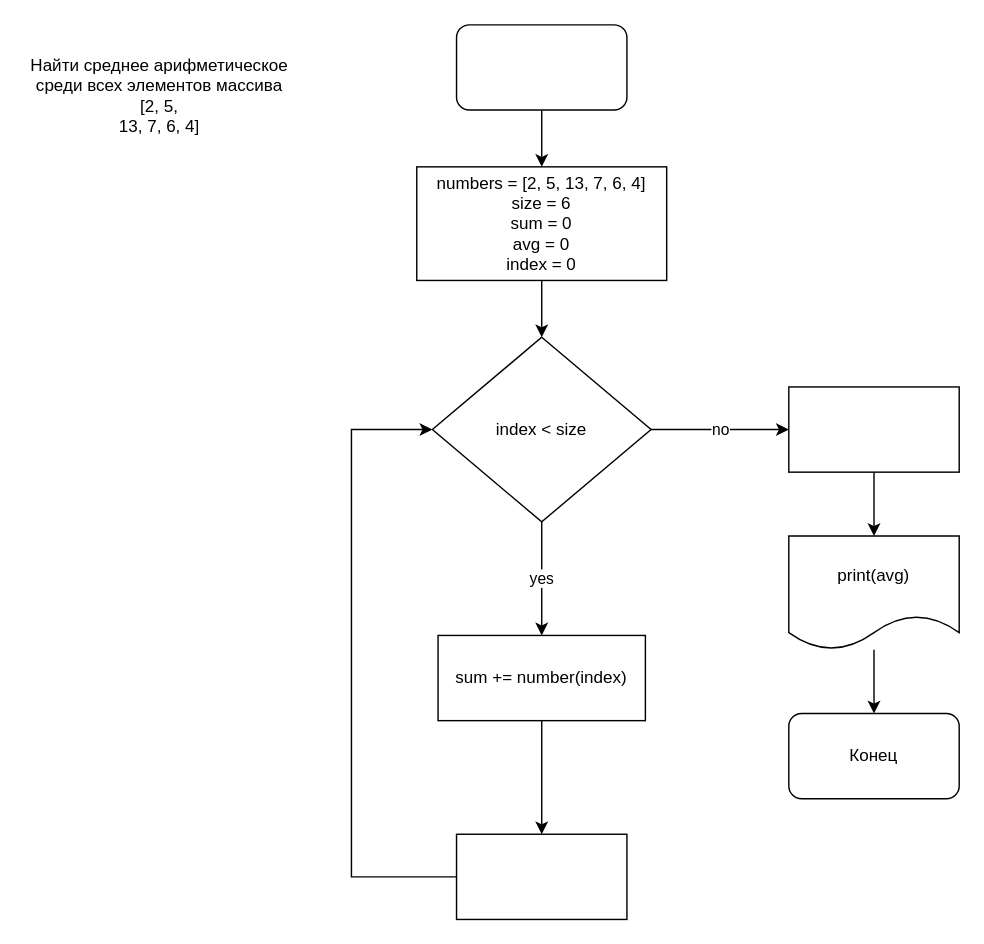
Image size: 984x944. Some labels were removed from this diagram. The box of each missing label's shape, as (x1, y1, x2, y2) in pixels:
avg = sum / size: (787, 386, 959, 472)
index += 1: (455, 833, 627, 919)
Начало: (455, 23, 627, 110)
